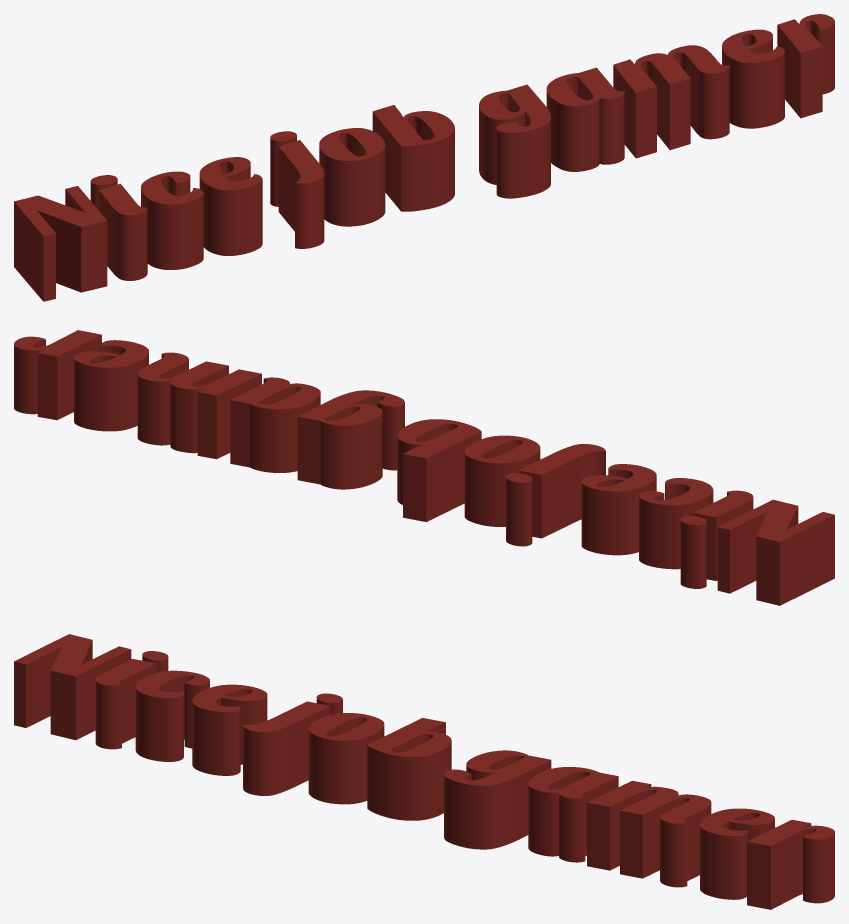
The model's file is secret.glb.
The picture shows the model from 3 angles, top to bottom: view 1: azimuth 30°, elevation 25°; view 2: azimuth 150°, elevation 25°; view 3: azimuth 330°, elevation 25°; orthographic projection. The views are drawn at different scales.
Parts seen in each view (by area): view 1: Curve; view 2: Curve; view 3: Curve.
Boxes of the visible parts, x1,y1,x2,y2 form: Curve: (14,14,834,301); Curve: (14,330,834,605); Curve: (14,634,834,909).
Bounding box in the file's own units: 0.1301 × 0.01 × 0.0168.
